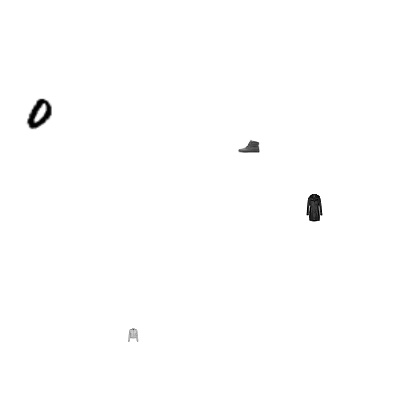0: (17, 93, 59, 135)
Coat: (300, 194, 328, 222), (126, 328, 140, 342)
Sneaker: (238, 135, 260, 157)
